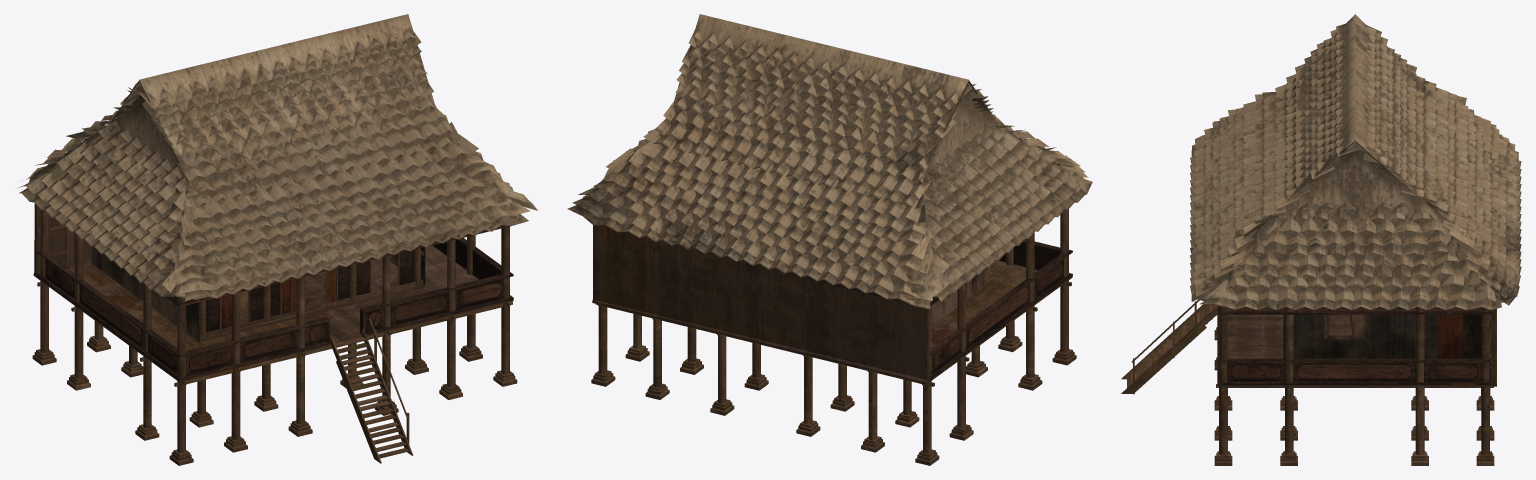
Rendered from stilt_house_in_denhung_cantho_-_vietnam.glb.
3 views of the same model, side by side, from view 1: azimuth 30°, elevation 25°; view 2: azimuth 150°, elevation 25°; view 3: azimuth 270°, elevation 25° (orthographic). The views are drawn at different scales.
Parts seen in each view (by area): view 1: Object_2, Object_3; view 2: Object_3, Object_2; view 3: Object_2, Object_3.
Boxes of the visible parts, x1,y1,x2,y2 form: Object_2: (19, 14, 537, 465); Object_3: (17, 83, 513, 418); Object_3: (567, 28, 1072, 384); Object_2: (583, 14, 1092, 465); Object_2: (1121, 14, 1513, 465); Object_3: (1131, 25, 1521, 386).
Bounding box in the file's own units: 120 × 100 × 117.
1 material, 1 textured.
